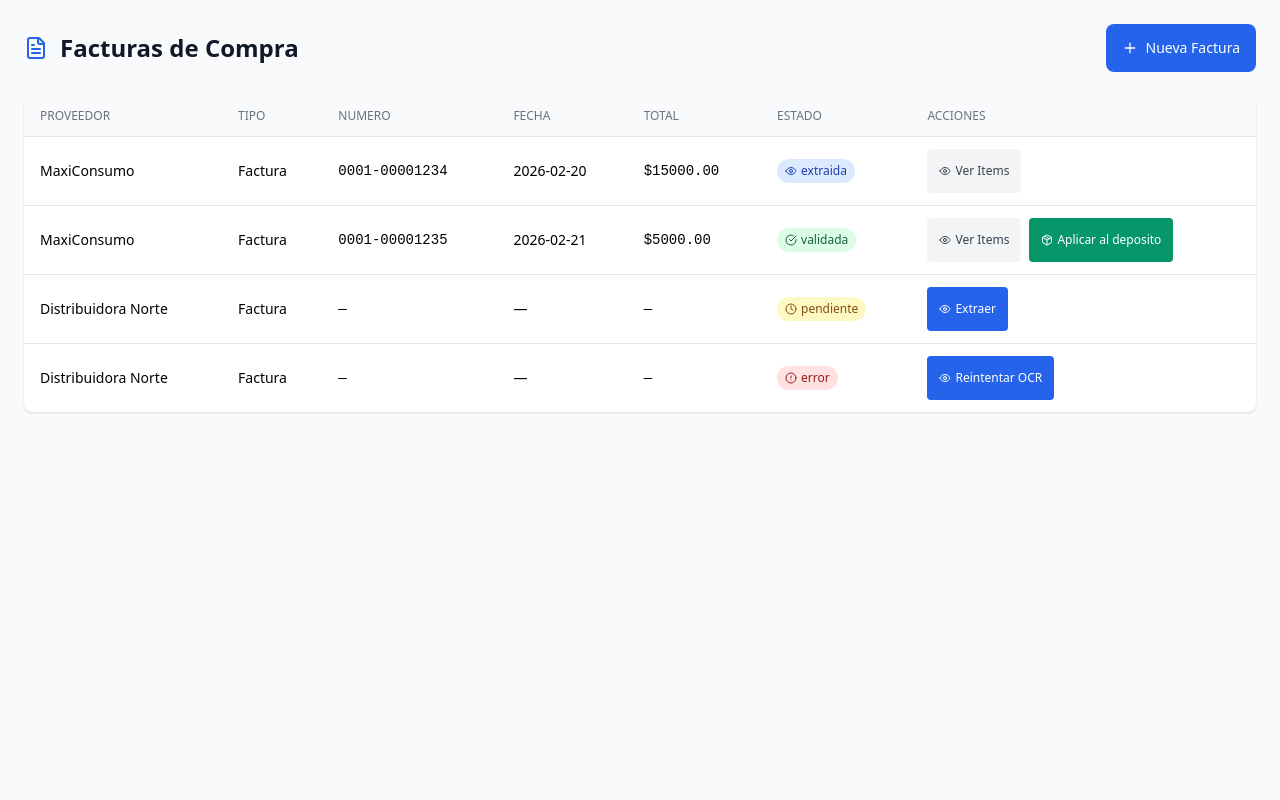
Facturas page › shows upload panel when Nueva Factura is clicked
Click the button "Nueva Factura": (1181, 48) [1106,24,1256,72]
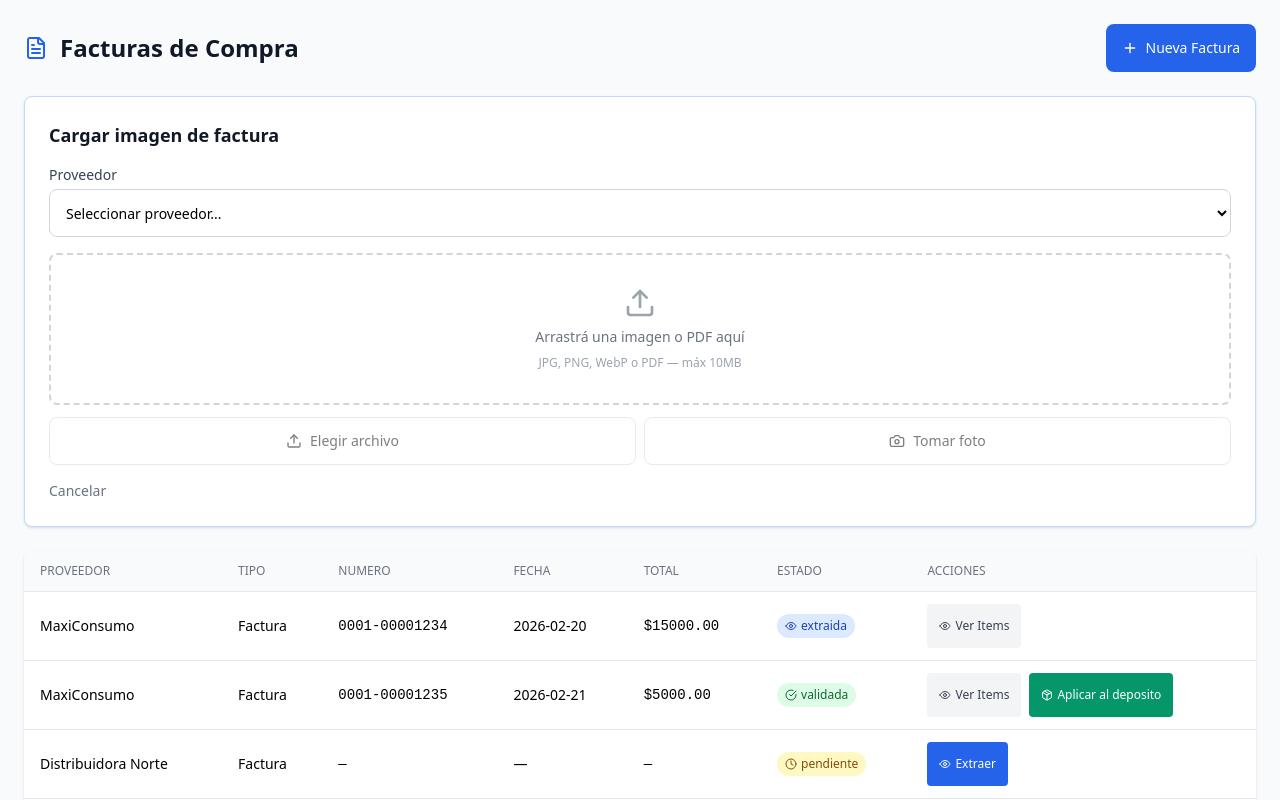
Check: the heading "Cargar imagen de factura" is shown, box [49,123,279,147]
